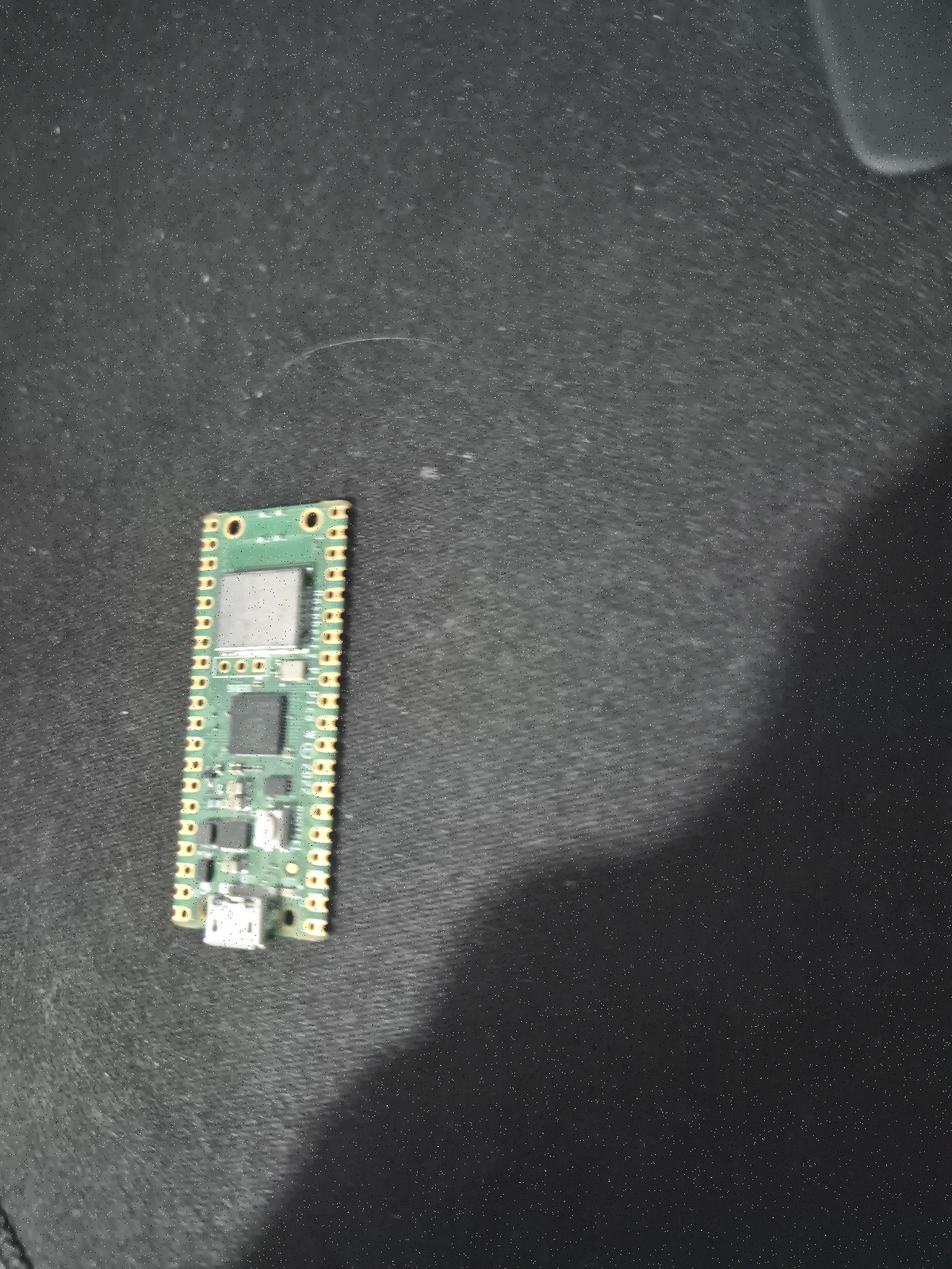raspberry-pi-pico-w: (173, 501, 350, 948)
